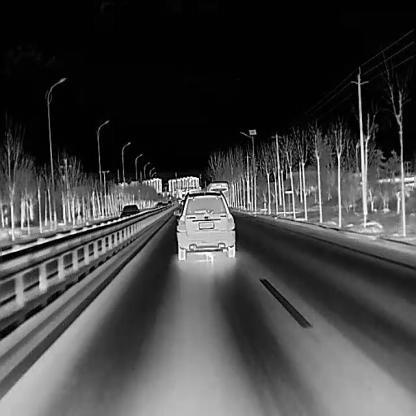car: (173, 188, 236, 259), (206, 181, 229, 210), (119, 203, 141, 224), (156, 201, 162, 209), (167, 199, 171, 205)
